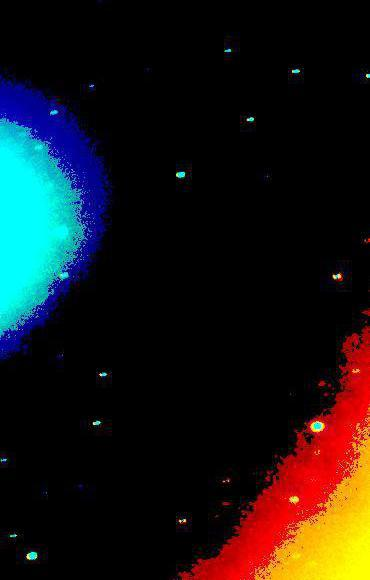star: (47, 385, 77, 415)
